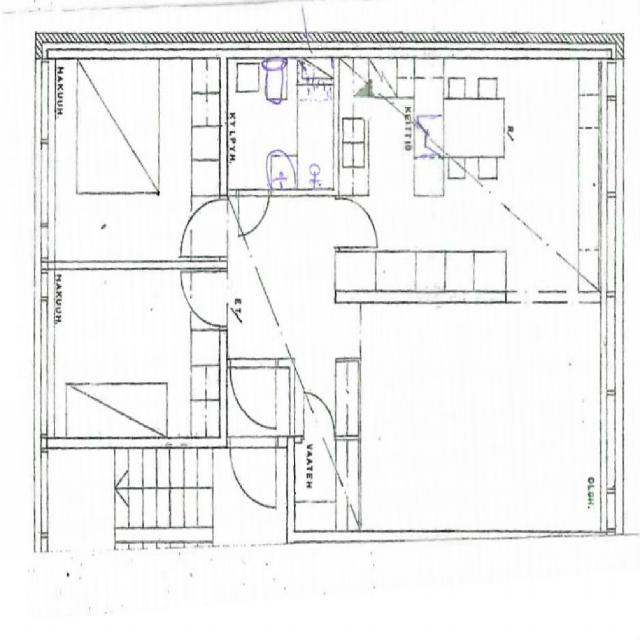door: (230, 436, 275, 509), (231, 358, 276, 430), (177, 200, 227, 256), (178, 270, 227, 326), (335, 198, 374, 246), (238, 188, 268, 238), (303, 392, 334, 440)
